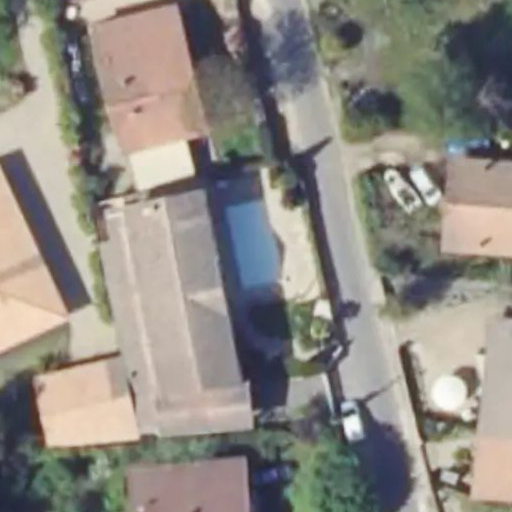pool: (224, 199, 285, 288)
